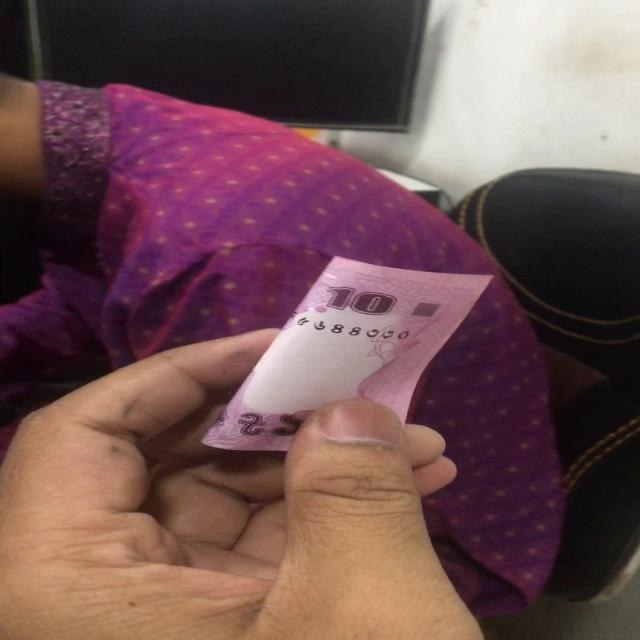Taka: (228, 248, 479, 452)
